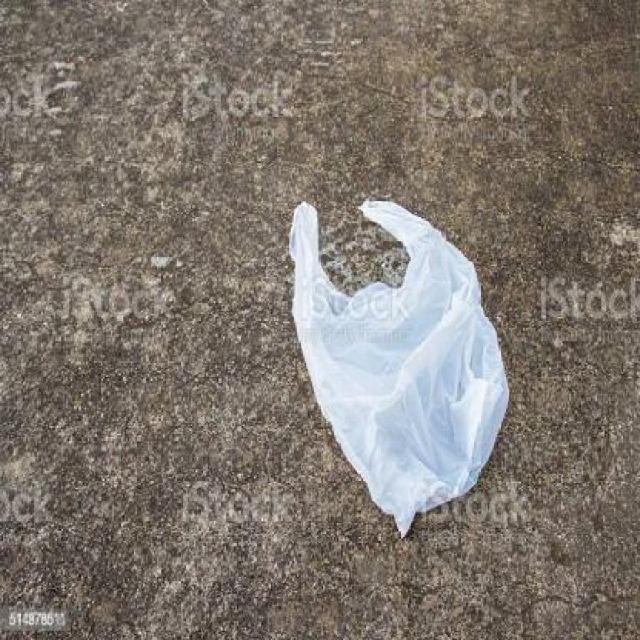plastic bag: (286, 185, 516, 544)
